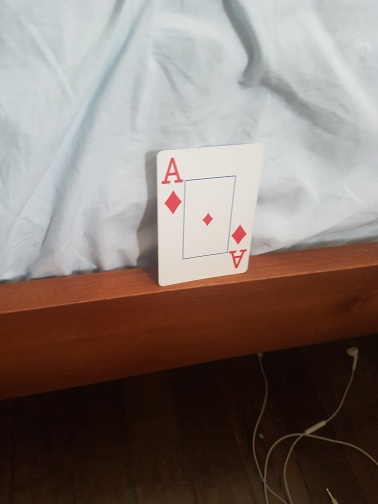ace: (157, 145, 253, 287)
